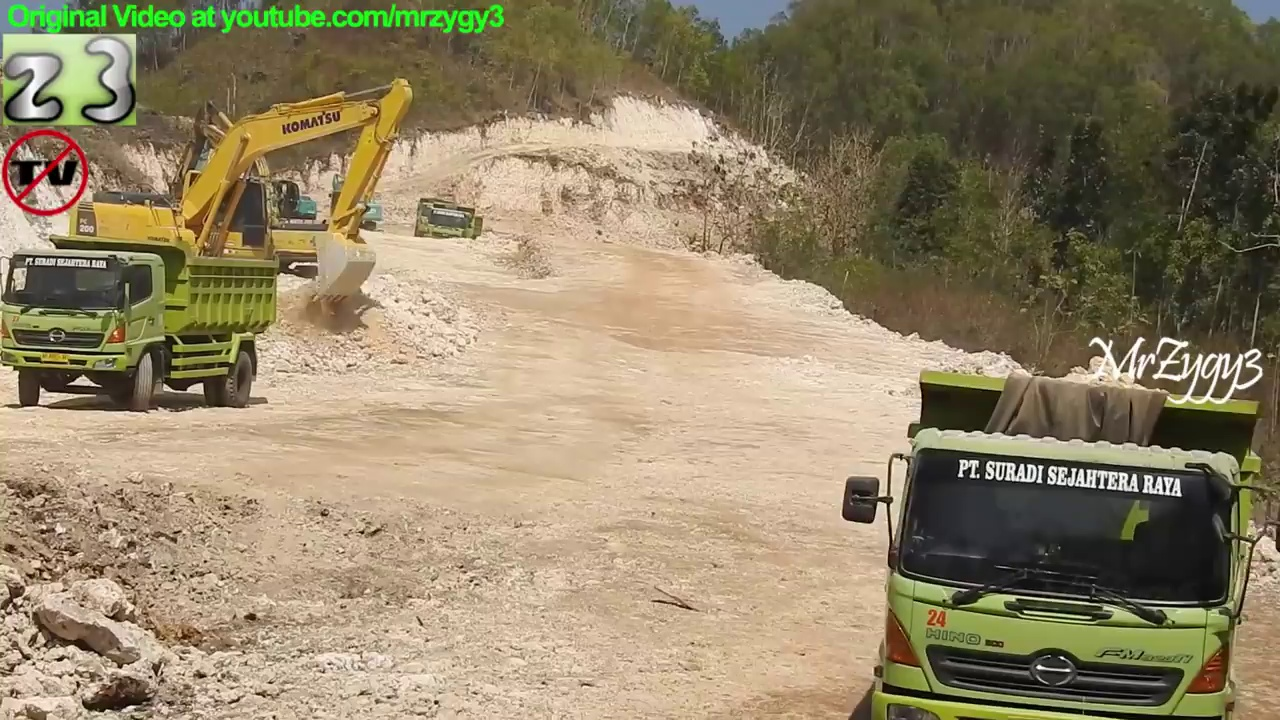excavator: (57, 76, 422, 321), (151, 96, 355, 302), (171, 124, 327, 244), (324, 152, 385, 233)
truck: (836, 365, 1280, 720), (1, 229, 279, 416), (427, 200, 482, 252), (413, 192, 464, 245)
